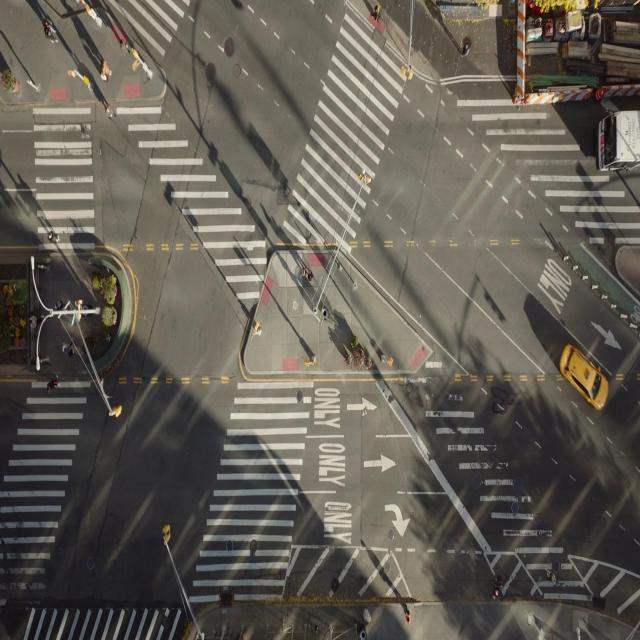Bus: (595, 101, 640, 188)
Car: (549, 335, 615, 420)
